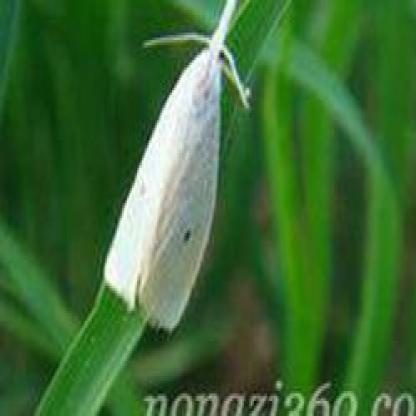stem-borer: (97, 0, 253, 345)
